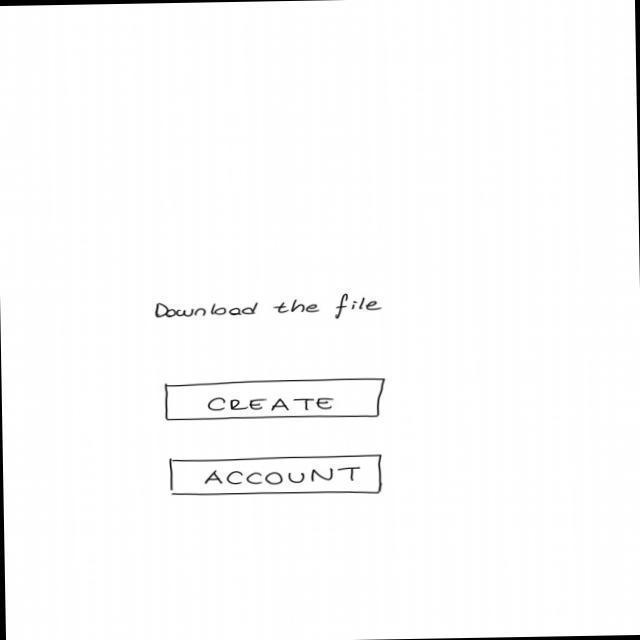button: (163, 376, 389, 425), (166, 453, 387, 499)
label: (153, 291, 388, 326)
